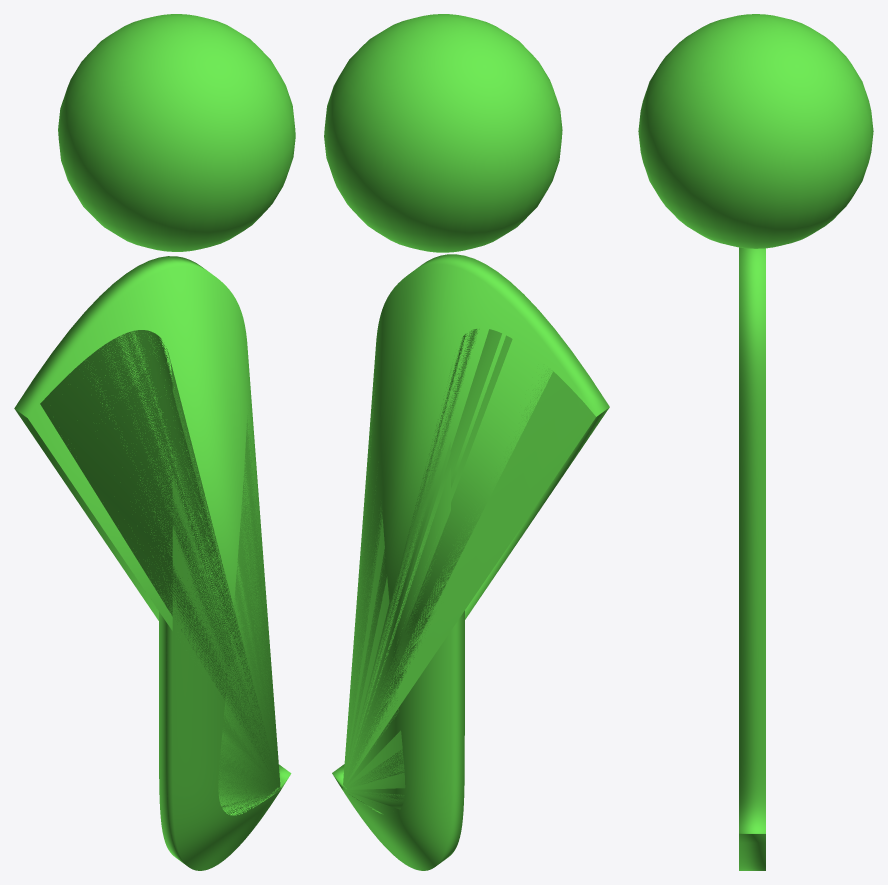
The model's file is info icon.fbx.
3 renders of one model, left to right at view 1: azimuth 30°, elevation 25°; view 2: azimuth 150°, elevation 25°; view 3: azimuth 270°, elevation 25°, orthographic.
Parts seen in each view (by area): view 1: NurbsCurve.001; view 2: NurbsCurve.001; view 3: NurbsCurve.001.
Boxes of the visible parts, x1=… form: NurbsCurve.001: x1=14, y1=14, x2=295, y2=870; NurbsCurve.001: x1=324, y1=14, x2=609, y2=870; NurbsCurve.001: x1=638, y1=14, x2=873, y2=870.
Bounding box in the file's own units: 14.2 × 43.44 × 11.12.
